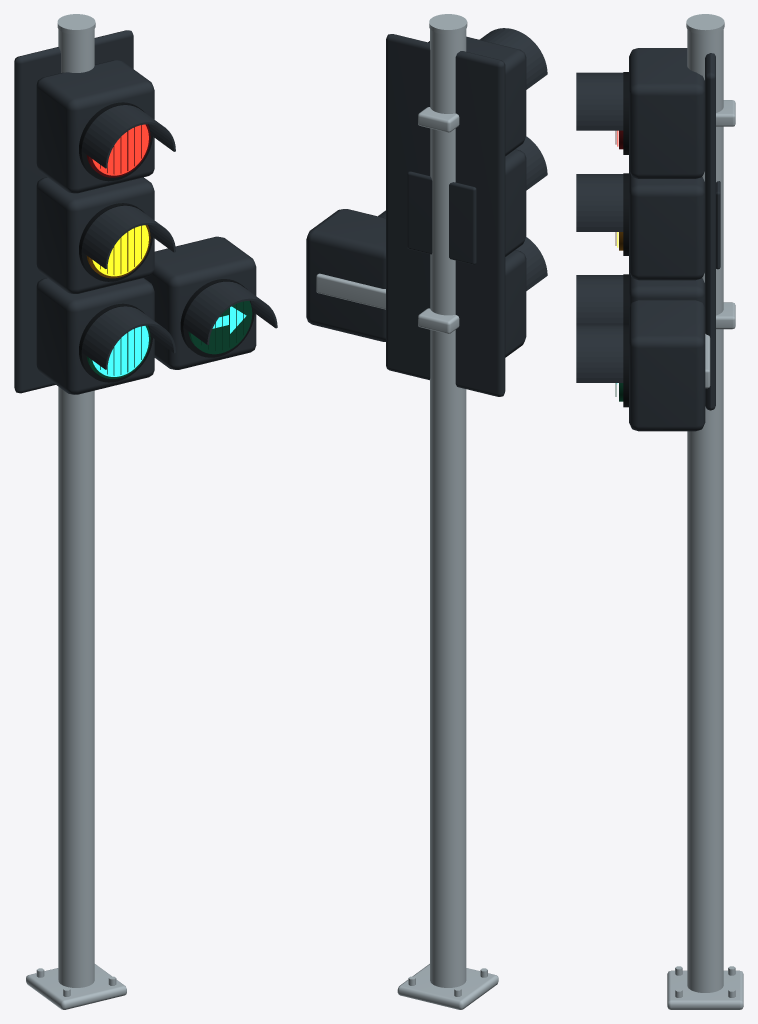
The model's file is DS_Signal_VehicleArrow.fbx.
3 views of the same model, side by side, from view 1: azimuth 30°, elevation 25°; view 2: azimuth 150°, elevation 25°; view 3: azimuth 270°, elevation 25° (orthographic).
Parts seen in each view (by area): view 1: Post.013, Backplate.001, Module_Red.001, Module_Amber.001, Module_Green.001, Module_Green.002, SunVisor.003, SunVisor.005, SunVisor.006, SunVisor.004, BasePlate.013, Lamp_Amber_Lit_Amber.001 (+8 smaller); view 2: Post.013, Backplate.001, Module_Green.002, ServiceDoor.001, Module_Red.001, BasePlate.013, Module_Amber.001, Module_Green.001, SunVisor.003, SideBracket, SunVisor.004, SunVisor.005 (+3 smaller); view 3: Post.013, Module_Green.002, Module_Red.001, Module_Amber.001, Backplate.001, SunVisor.003, SunVisor.004, SunVisor.006, SunVisor.005, BasePlate.013, Module_Green.001, PostCap.013 (+6 smaller).
Part boxes in pixels (bbox=[...]): Post.013: bbox=[58, 29, 94, 987]; Backplate.001: bbox=[14, 30, 133, 393]; Module_Red.001: bbox=[36, 60, 154, 193]; Module_Amber.001: bbox=[36, 177, 154, 293]; Module_Green.001: bbox=[36, 278, 154, 394]; Module_Green.002: bbox=[144, 236, 256, 369]; SunVisor.003: bbox=[82, 105, 175, 168]; SunVisor.005: bbox=[82, 306, 175, 369]; SunVisor.006: bbox=[184, 281, 277, 344]; SunVisor.004: bbox=[82, 205, 175, 268]; BasePlate.013: bbox=[26, 964, 126, 1009]; Lamp_Amber_Lit_Amber.001: bbox=[92, 225, 148, 276]; Post.013: bbox=[430, 29, 466, 987]; Backplate.001: bbox=[386, 34, 505, 396]; Module_Green.002: bbox=[306, 209, 385, 341]; ServiceDoor.001: bbox=[407, 171, 476, 264]; Module_Red.001: bbox=[428, 36, 526, 156]; BasePlate.013: bbox=[397, 964, 498, 1009]; Module_Amber.001: bbox=[505, 149, 526, 256]; Module_Green.001: bbox=[505, 250, 526, 357]; SunVisor.003: bbox=[479, 28, 547, 89]; SideBracket: bbox=[316, 273, 385, 309]; SunVisor.004: bbox=[515, 136, 547, 190]; SunVisor.005: bbox=[515, 237, 547, 290]; Post.013: bbox=[687, 29, 723, 992]; Module_Green.002: bbox=[629, 300, 705, 431]; Module_Red.001: bbox=[629, 48, 704, 178]; Module_Amber.001: bbox=[629, 171, 704, 280]; Backplate.001: bbox=[705, 53, 715, 410]; SunVisor.003: bbox=[576, 72, 623, 130]; SunVisor.004: bbox=[576, 174, 623, 231]; SunVisor.006: bbox=[576, 325, 623, 382]; SunVisor.005: bbox=[576, 275, 623, 324]; BasePlate.013: bbox=[667, 970, 743, 1009]; Module_Green.001: bbox=[629, 272, 704, 308]; PostCap.013: bbox=[686, 14, 724, 34].
Size of the model in its own units: 74.5 by 337 by 52.5.
